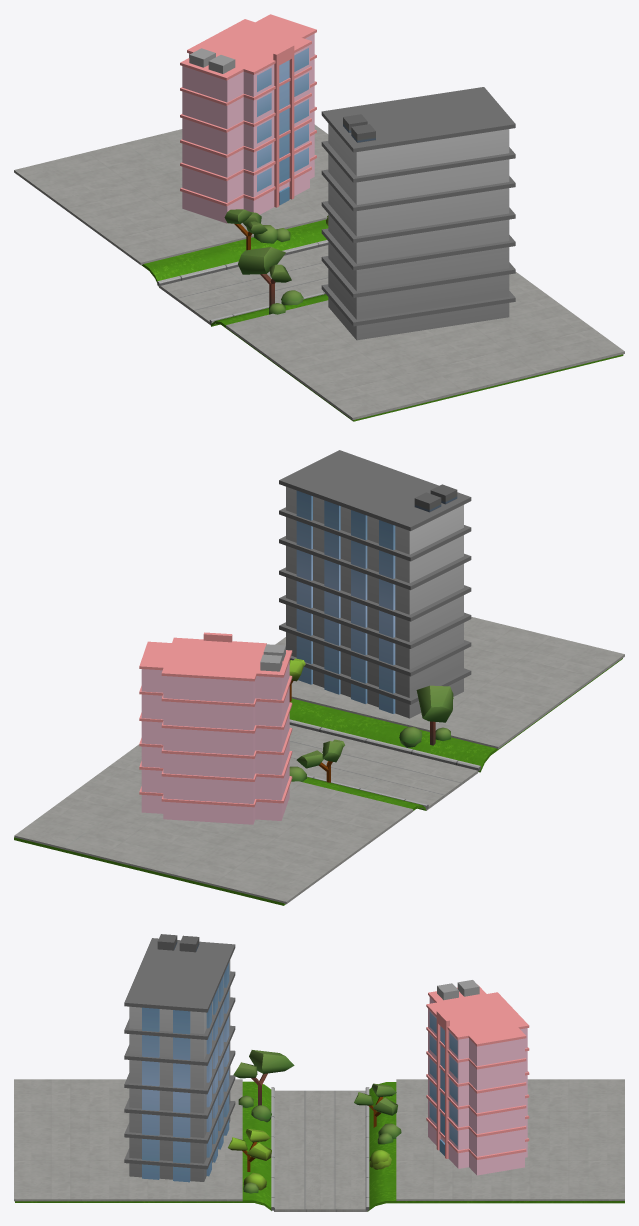
Rendered from Level 3 Chunk 6 V2.fbx.
The picture shows the model from 3 angles, top to bottom: view 1: azimuth 30°, elevation 25°; view 2: azimuth 150°, elevation 25°; view 3: azimuth 270°, elevation 25°; orthographic projection. The views are drawn at different scales.
Parts seen in each view (by area): view 1: pCube15741, pCube9424, Building_C47, pCube9423, pCube9409, pCube9405, polySurface23, pCube9410, pCube9422, pCube9413; view 2: pCube15741, Building_C47, pCube9423, pCube9424, pCube9409, pCube9410, pCube9405, polySurface23, pCube9419, pCube9422; view 3: pCube15741, pCube9423, pCube9424, Building_C47, pCube9409, pCube9405, pCube9410, polySurface23, pCube9411, pCube9422, pCube9413, pCube9419.
Part boxes in pixels (x1,y1,x2,y2): pCube15741: (321,87,515,340); pCube9424: (226,272,624,420); Building_C47: (180,14,316,223); pCube9423: (14,124,328,264); pCube9409: (159,245,328,325); pCube9405: (141,219,328,287); polySurface23: (238,247,291,306); pCube9410: (211,294,623,421); pCube9422: (224,209,267,250); pCube9413: (157,240,328,286); pCube15741: (279,450,471,718); Building_C47: (139,632,292,824); pCube9423: (14,744,413,904); pCube9424: (275,617,624,749); pCube9409: (289,725,478,810); pCube9410: (289,658,622,772); pCube9405: (14,777,426,905); polySurface23: (416,685,453,745); pCube9419: (289,719,480,771); pCube9422: (296,739,344,782); pCube15741: (124,934,235,1182); pCube9423: (396,1079,624,1200); pCube9424: (14,1079,242,1201); Building_C47: (426,980,529,1175); pCube9409: (274,1090,367,1211); pCube9405: (367,1082,624,1211); pCube9410: (15,1081,271,1210); polySurface23: (233,1050,294,1105); pCube9411: (228,1128,271,1171); pCube9422: (354,1083,397,1127); pCube9413: (365,1087,369,1210); pCube9419: (271,1087,274,1210).
Size of the model in its own units: 12.43 by 9.41 by 26.6.
Materials: 2 (2 with a texture image).
